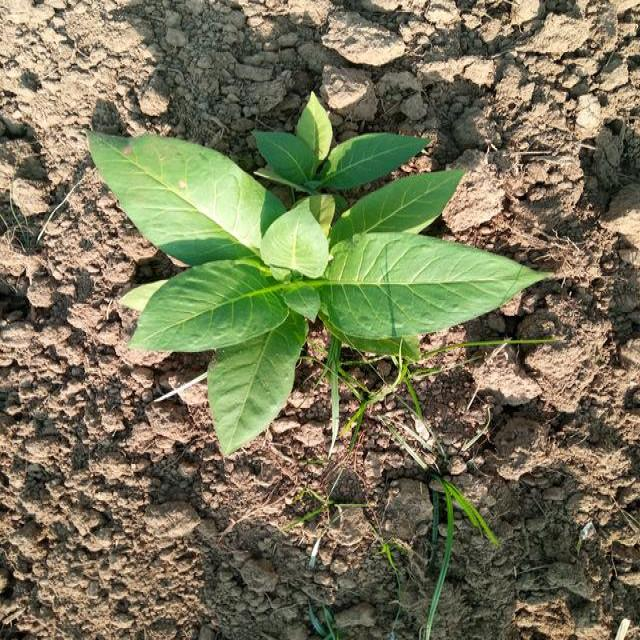crop: (91, 111, 516, 431)
